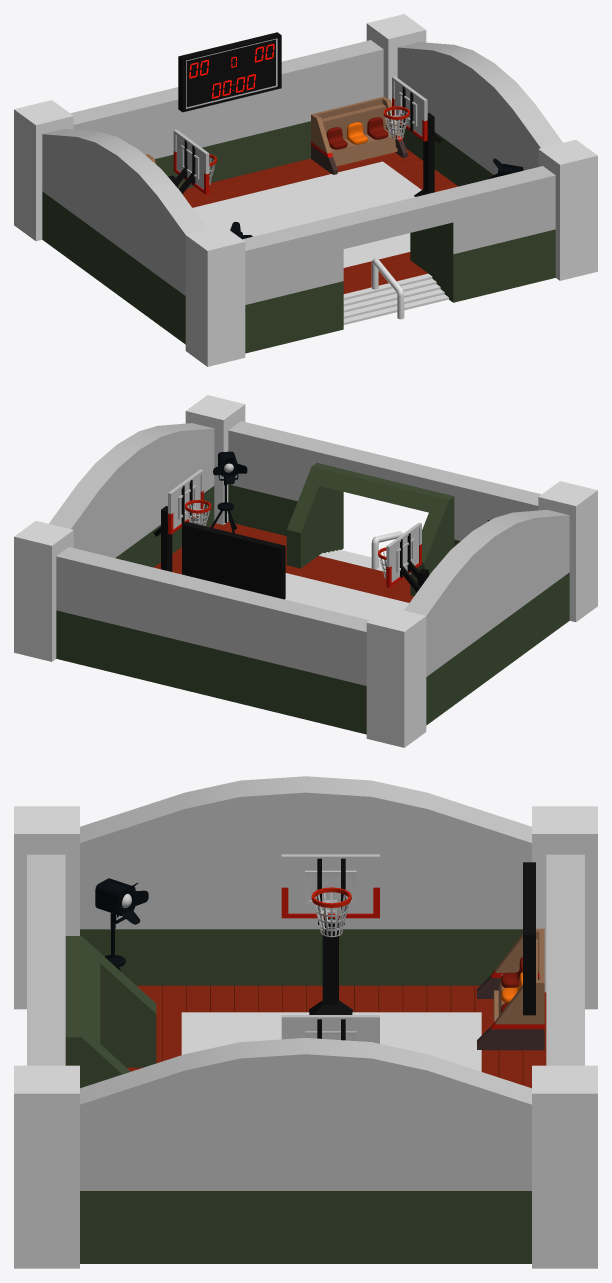
Rendered from Sports.fbx.
3 views of the same model, one above another, from view 1: azimuth 30°, elevation 25°; view 2: azimuth 150°, elevation 25°; view 3: azimuth 270°, elevation 25° (orthographic). The views are drawn at different scales.
Parts seen in each view (by area): view 1: Cube.083, Cube.079, Cube.020, DUELA_Plane.001, TABLERO_Cube.002, Cube.355, Cylinder.202, Cube.081, Cube.357, Cube.359, Cube.080, Cube.356 (+2 smaller); view 2: Cube.083, Cube.079, Cube.020, Cube.080, TABLERO_Cube.002, Cylinder.202, Cube.355, DUELA_Plane.001, Cube.343, Cube.081; view 3: Cube.079, Cube.020, Cube.083, Cube.355, Cylinder.202, Cube.080, DUELA_Plane.001, Cube.359, TABLERO_Cube.002, Cube.343.
Boxes of the visible parts, x1,y1,x2,y2 form: Cube.083: (70,40,555,353); Cube.079: (42,42,562,344); Cube.020: (14,14,597,366); DUELA_Plane.001: (192,161,421,267); TABLERO_Cube.002: (178,32,281,112); Cube.355: (182,148,457,293); Cylinder.202: (168,76,441,196); Cube.081: (343,273,448,324); Cube.357: (321,104,397,166); Cube.359: (145,96,407,174); Cube.080: (410,226,440,286); Cube.356: (326,117,388,149); Cube.083: (56,421,541,734); Cube.079: (49,423,569,725); Cube.020: (14,395,597,747); Cube.080: (286,463,454,596); TABLERO_Cube.002: (182,521,285,599); Cylinder.202: (153,469,428,592); Cube.355: (154,522,413,602); DUELA_Plane.001: (285,573,408,620); Cube.343: (210,451,489,533); Cube.081: (319,549,410,574); Cube.079: (80,776,531,1263); Cube.020: (14,806,597,1268); Cube.083: (27,854,584,1065); Cube.355: (127,985,546,1088); Cylinder.202: (281,854,379,1043); Cube.080: (65,936,156,1088); DUELA_Plane.001: (181,1012,481,1071); Cube.359: (477,928,544,1050); TABLERO_Cube.002: (523,862,535,1015); Cube.343: (95,878,148,971).
Size of the model in its own units: 1405 by 1207 by 512.
